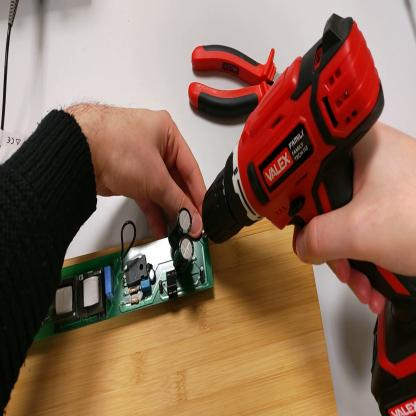electric screwdriver: (202, 15, 416, 416)
hand: (293, 114, 416, 317), (85, 104, 211, 246)
high voltage board: (34, 209, 215, 343)
pliers: (188, 43, 281, 121)
working area: (2, 220, 339, 416)
